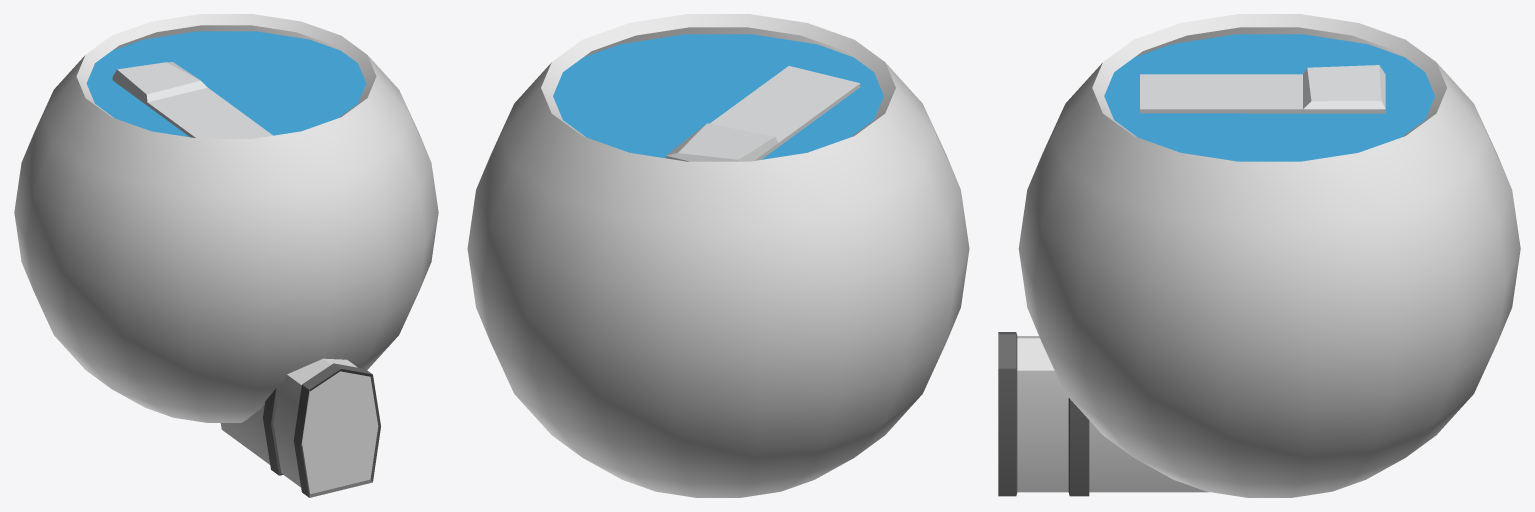
The model's file is FishBowl(2).fbx.
The picture shows the model from 3 angles, left to right: view 1: azimuth 30°, elevation 25°; view 2: azimuth 150°, elevation 25°; view 3: azimuth 270°, elevation 25°; orthographic projection. The views are drawn at different scales.
Visible parts, largest first — view 1: Sphere.001, Cube, Cube.003; view 2: Sphere.001, Cube.003; view 3: Sphere.001, Cube, Cube.003.
Boxes of the visible parts, box(x1,y1,x2,y2) form: Sphere.001: box(14, 14, 438, 422); Cube: box(220, 358, 380, 497); Cube.003: box(112, 62, 272, 138); Sphere.001: box(467, 14, 969, 497); Cube.003: box(666, 66, 860, 161); Sphere.001: box(1018, 14, 1520, 497); Cube: box(998, 332, 1208, 496); Cube.003: box(1140, 65, 1385, 113).
Size of the model in its own units: 1265 by 1042 by 1197.
